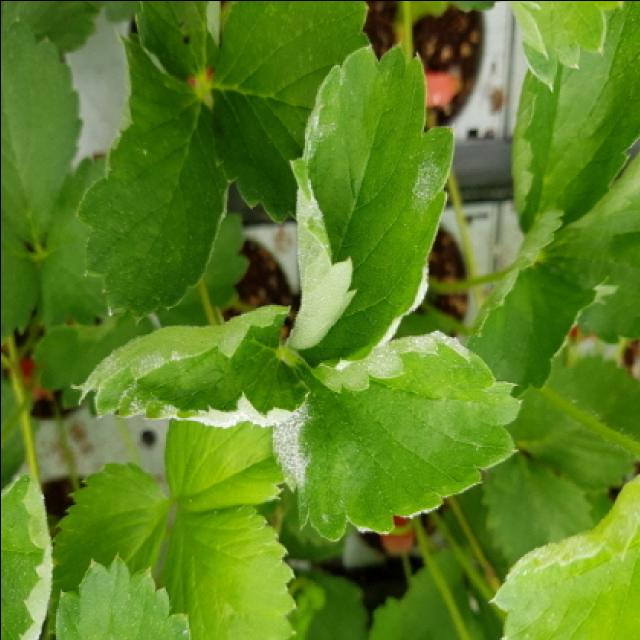Powdery Mildew Leaf: (281, 40, 454, 370), (270, 326, 524, 543), (68, 303, 311, 428), (486, 470, 640, 640), (2, 472, 53, 640)
